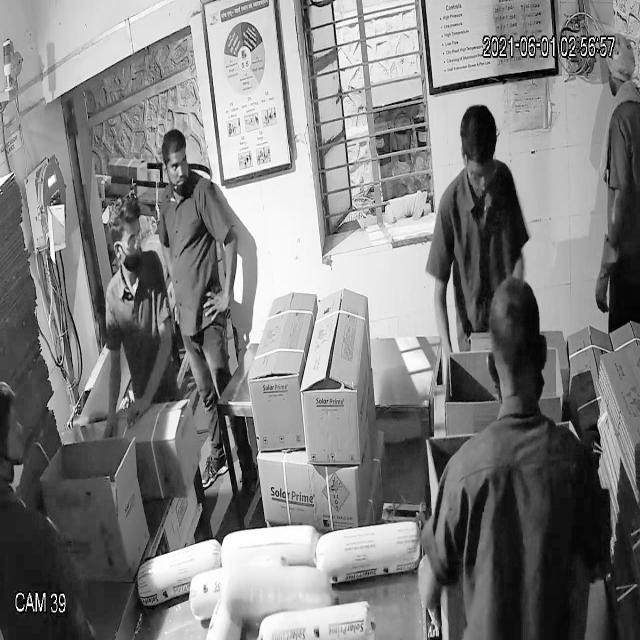glasses: (108, 224, 145, 261)
